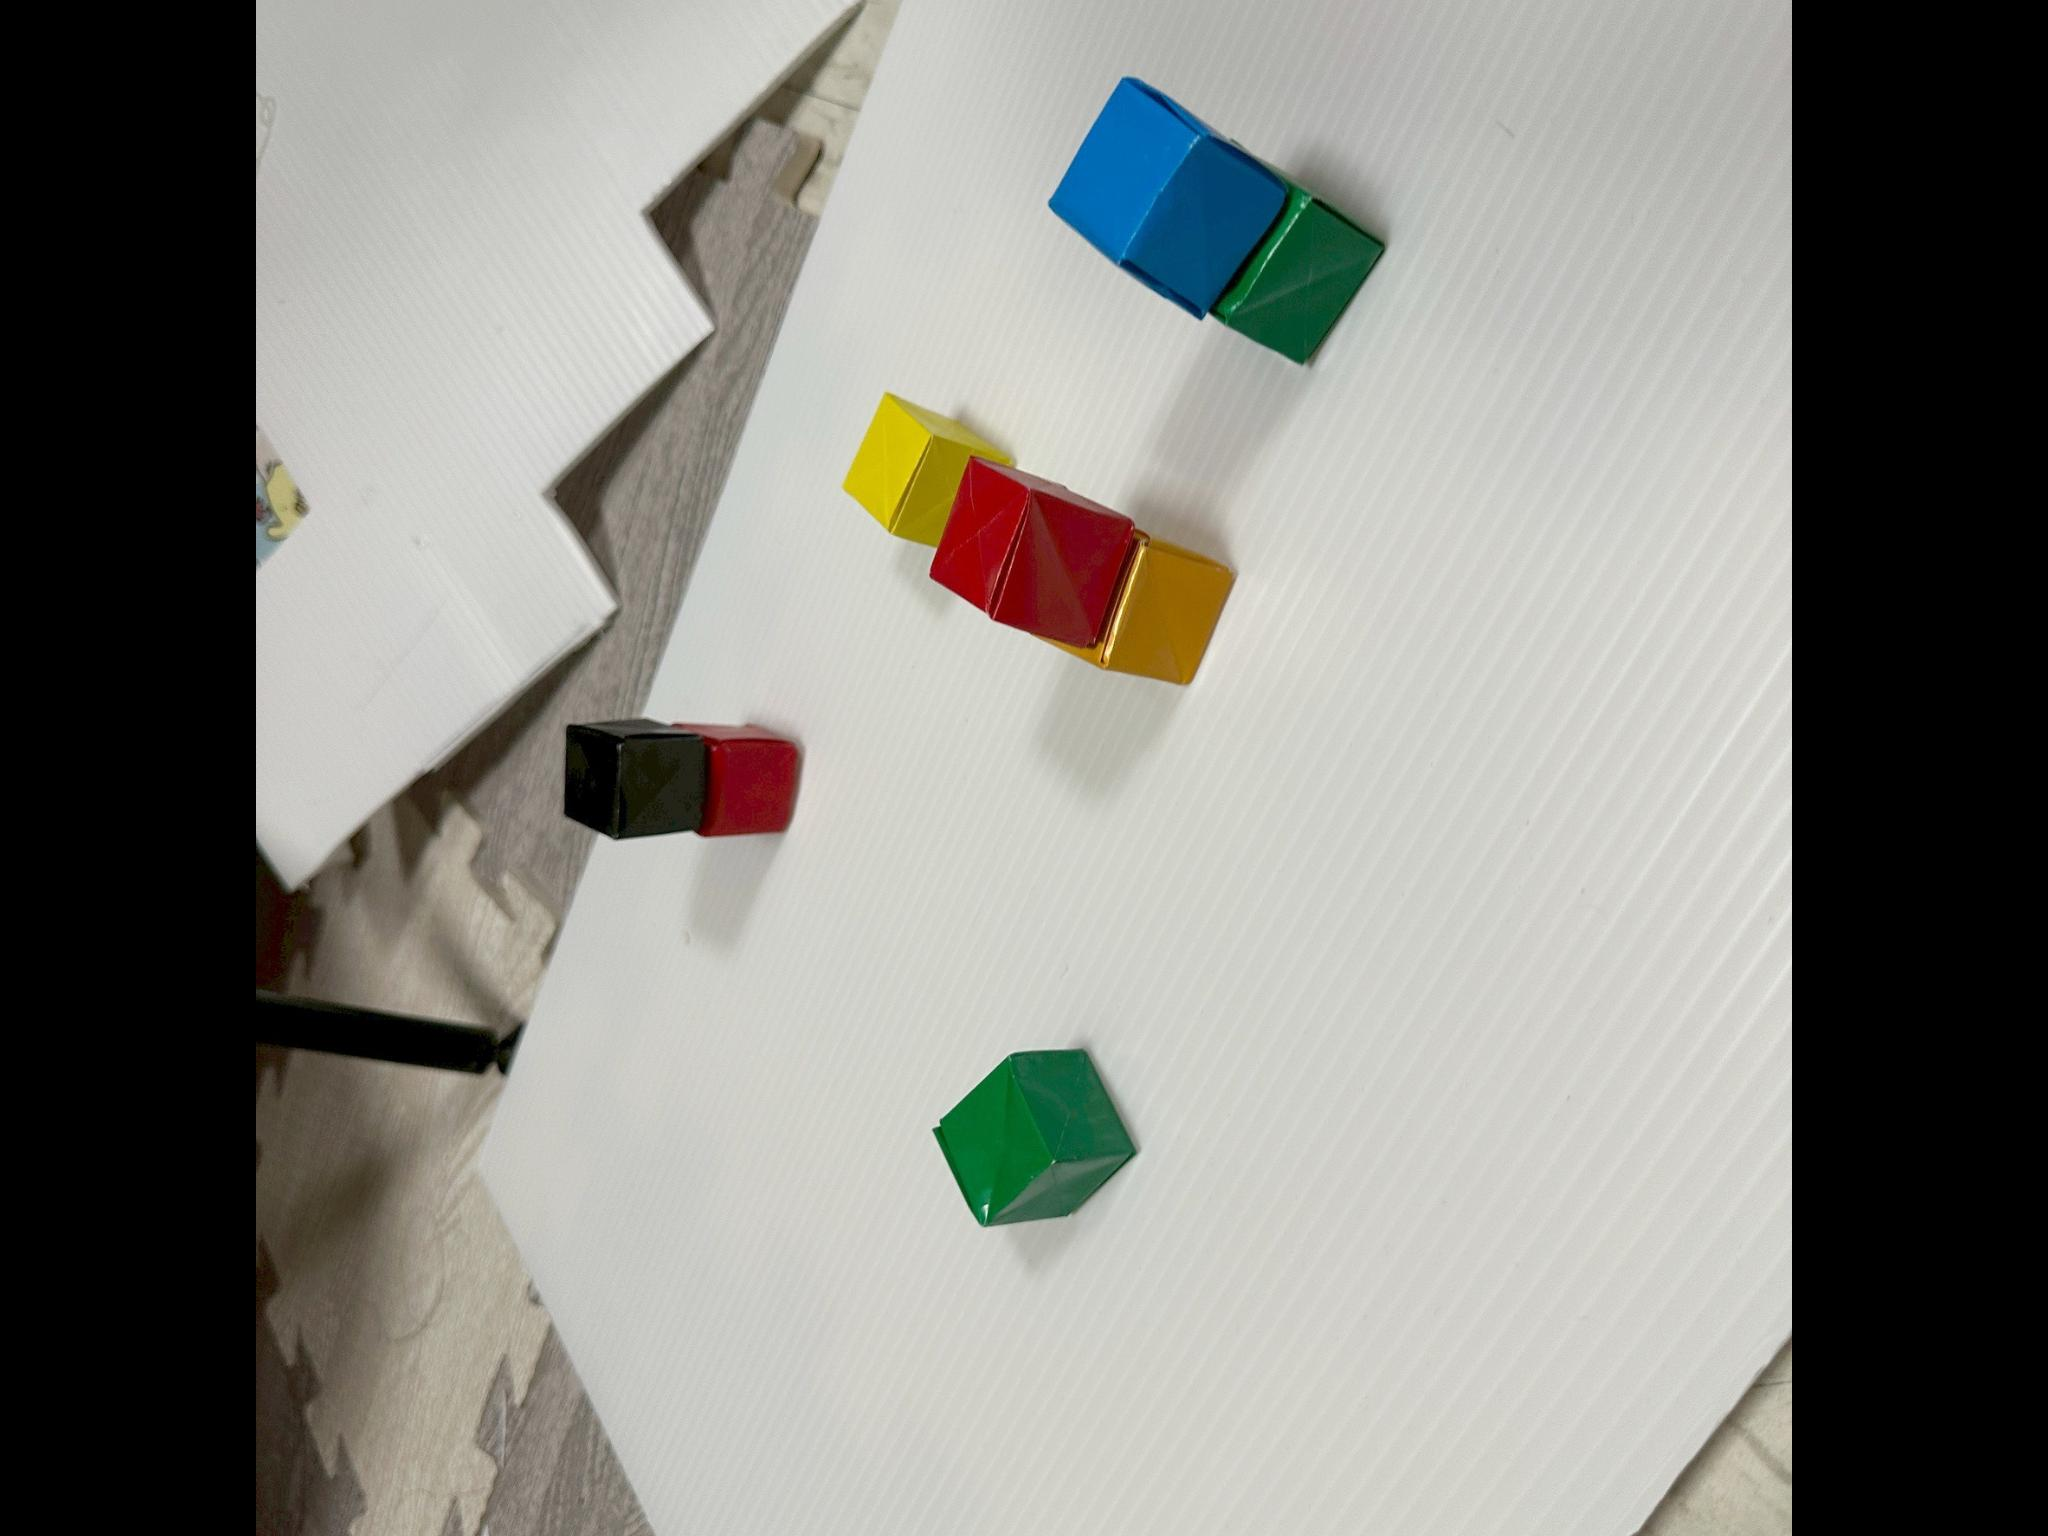base: (1050, 77, 1287, 316), (930, 457, 1134, 647), (934, 1047, 1135, 1226), (1209, 163, 1384, 363), (1055, 529, 1234, 682), (843, 390, 1013, 545), (564, 718, 708, 837), (672, 723, 800, 836)
